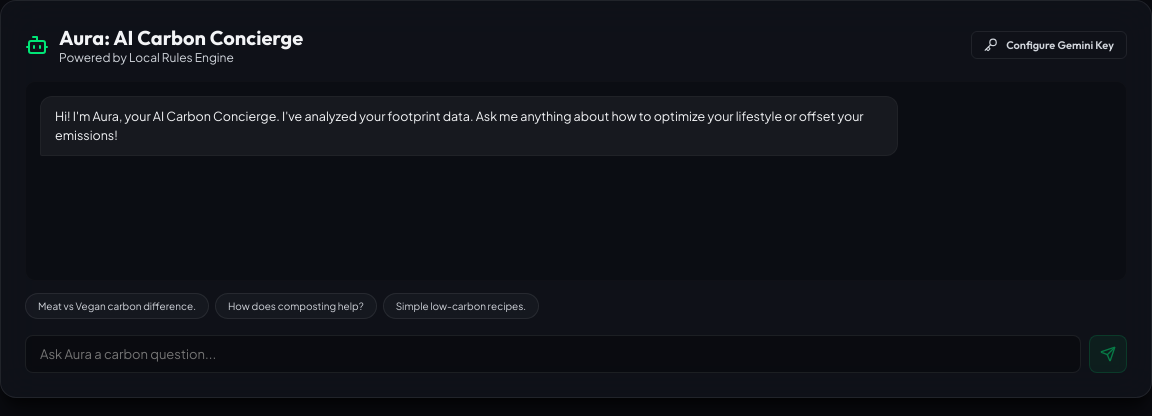
Test: InsightsPanel Component Tests › renders chatbot messages and handles query inputs
Expected: the text "your AI Carbon Concierge" is shown, [55, 108, 864, 143]
Typing query and clicking send
Type "explain carbon footprint of car" into the field with placeholder "Ask Aura a carbon question..." at {"x": 553, "y": 354}, box [25, 335, 1081, 373]
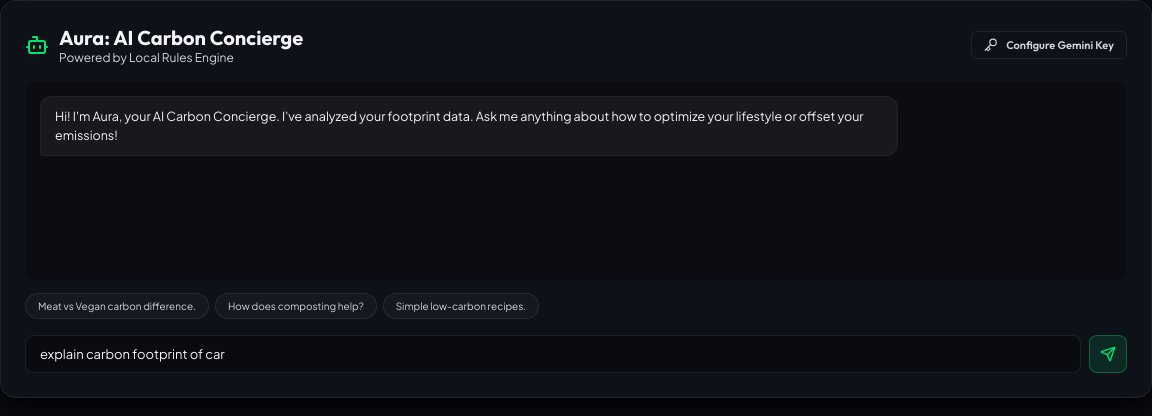
Click the button named "Send message" at {"x": 1108, "y": 354}, box [1089, 335, 1127, 373]
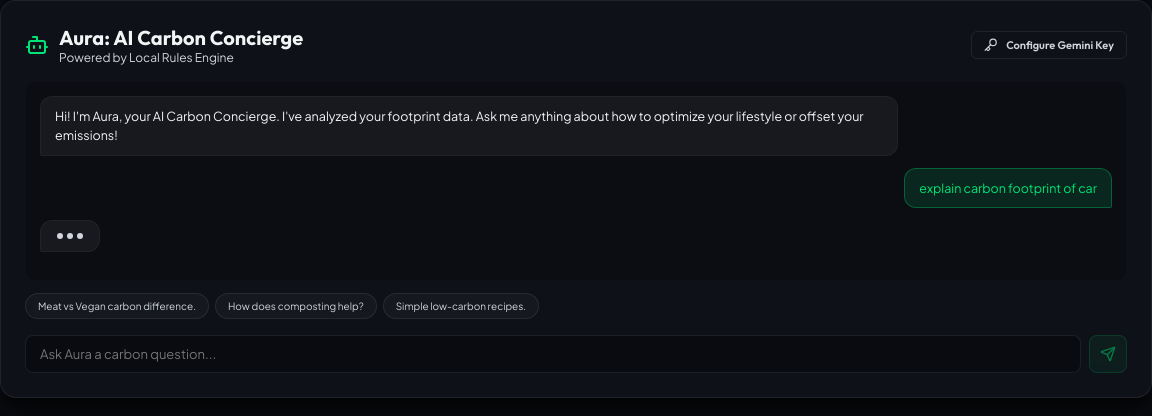
Expected: the text "explain carbon footprint of car" is shown, [919, 178, 1097, 197]
